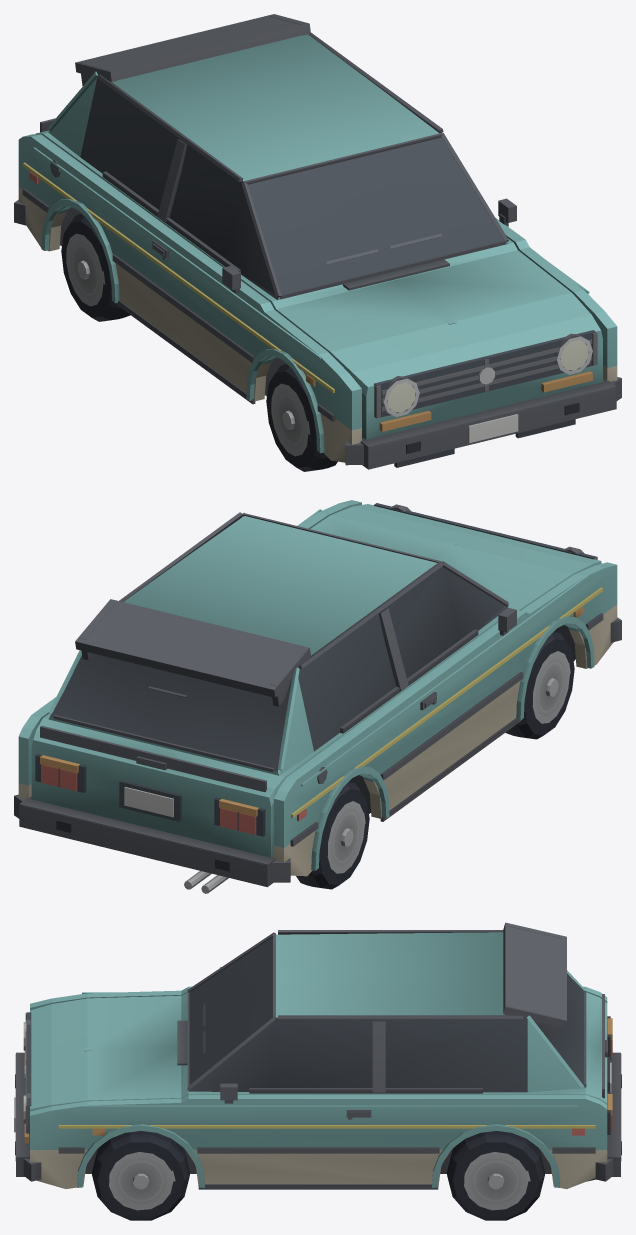
The model's file is hatch.glb.
3 views of the same model, one above another, from view 1: azimuth 30°, elevation 25°; view 2: azimuth 150°, elevation 25°; view 3: azimuth 270°, elevation 25° (orthographic). The views are drawn at different scales.
Parts seen in each view (by area): view 1: hatch; view 2: hatch; view 3: hatch.
Boxes of the visible parts, x1,y1,x2,y2 form: hatch: [14, 14, 621, 471]; hatch: [14, 500, 621, 893]; hatch: [14, 922, 621, 1220].
Size of the model in its own units: 1.97 by 1.56 by 4.21.
